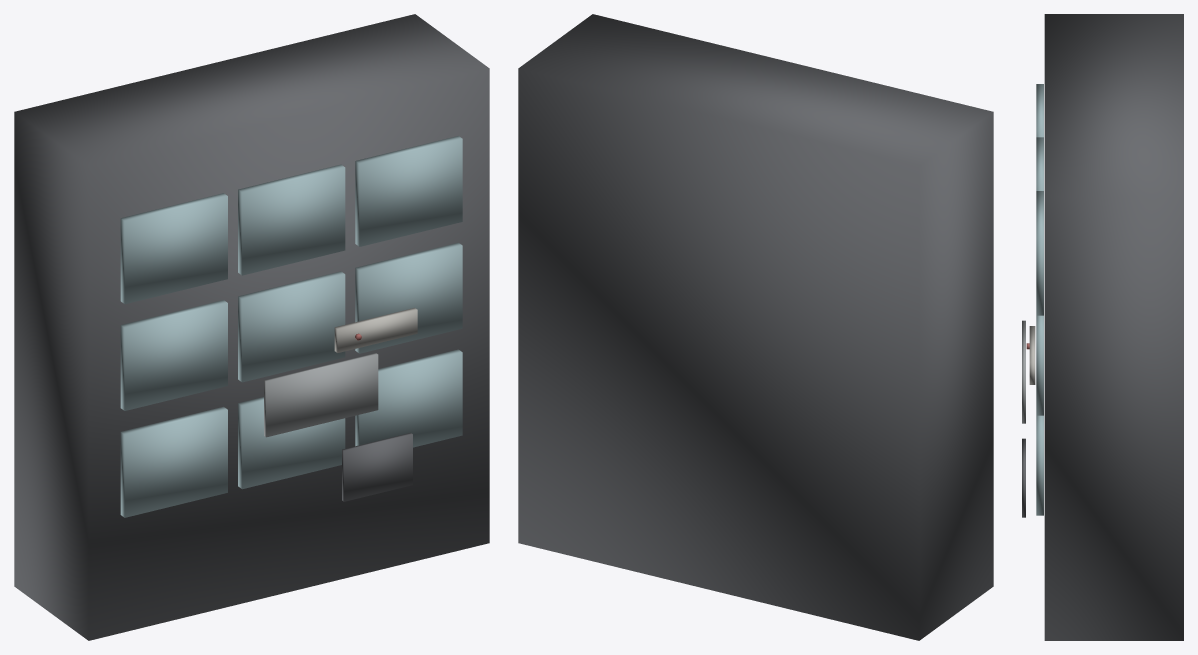
File: security_monitor_bank__weathered.glb
The picture shows the model from 3 angles, left to right: view 1: azimuth 30°, elevation 25°; view 2: azimuth 150°, elevation 25°; view 3: azimuth 270°, elevation 25°; orthographic projection. The views are drawn at different scales.
Parts seen in each view (by area): view 1: world; view 2: world; view 3: world.
Part boxes in pixels (left/top/right/bottom): world: left=14, top=14, right=489, bottom=640; world: left=518, top=14, right=993, bottom=640; world: left=1022, top=14, right=1183, bottom=640.
Bounding box in the file's own units: 1.4 × 1.58 × 0.5229.
